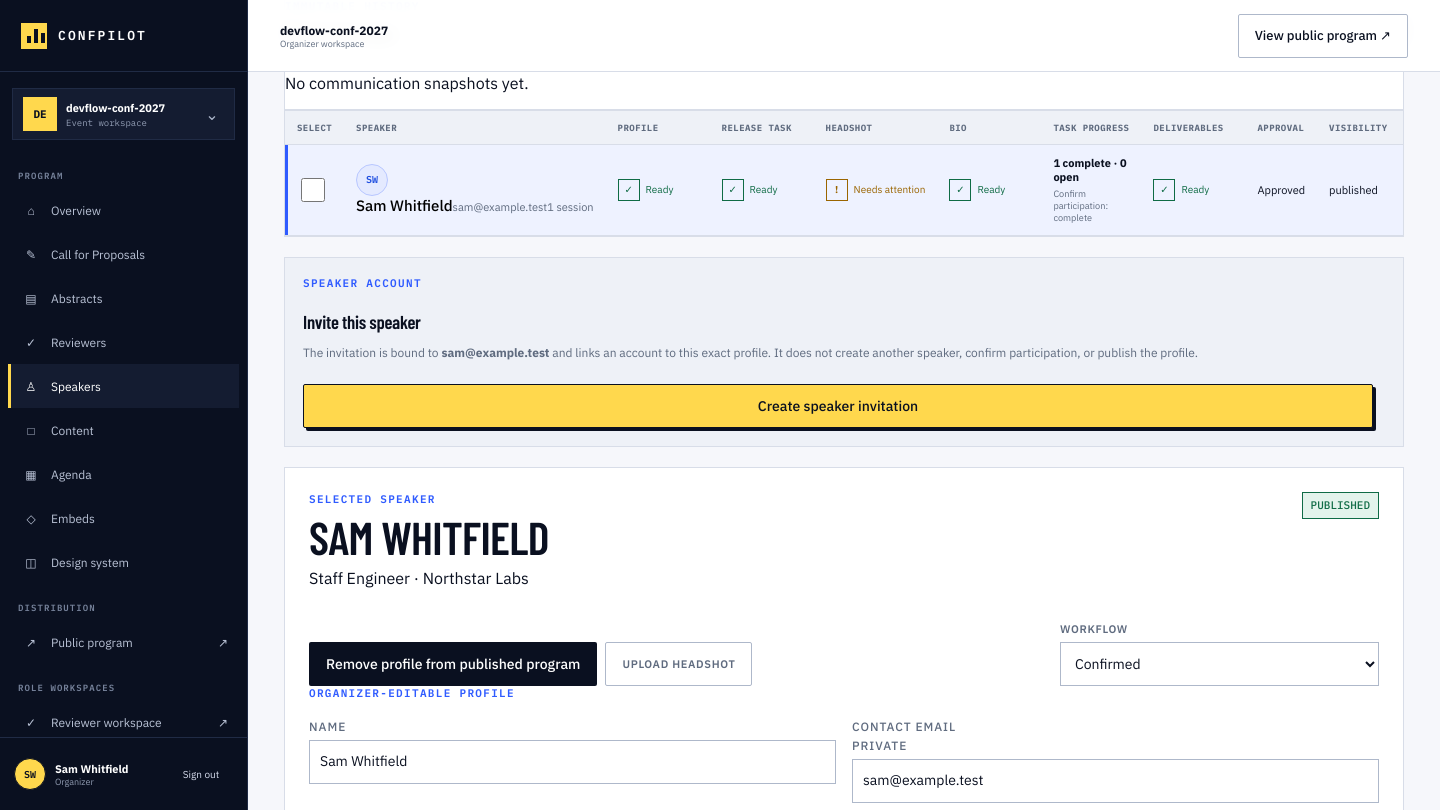
ConfPilot Phase 0 shell › creates an exact-record speaker invitation and labels queued delivery truthfully
The width and height of the screenshot is (1440, 810).
(page scrolled)
Expected: the heading "Invite this speaker" is shown, [303,310,421,333]
Expected: the text "links an account to this exact profile" is shown, [550,345,1198,360]
Click the button "Create speaker invitation" at (838, 406), box [303,384,1373,428]
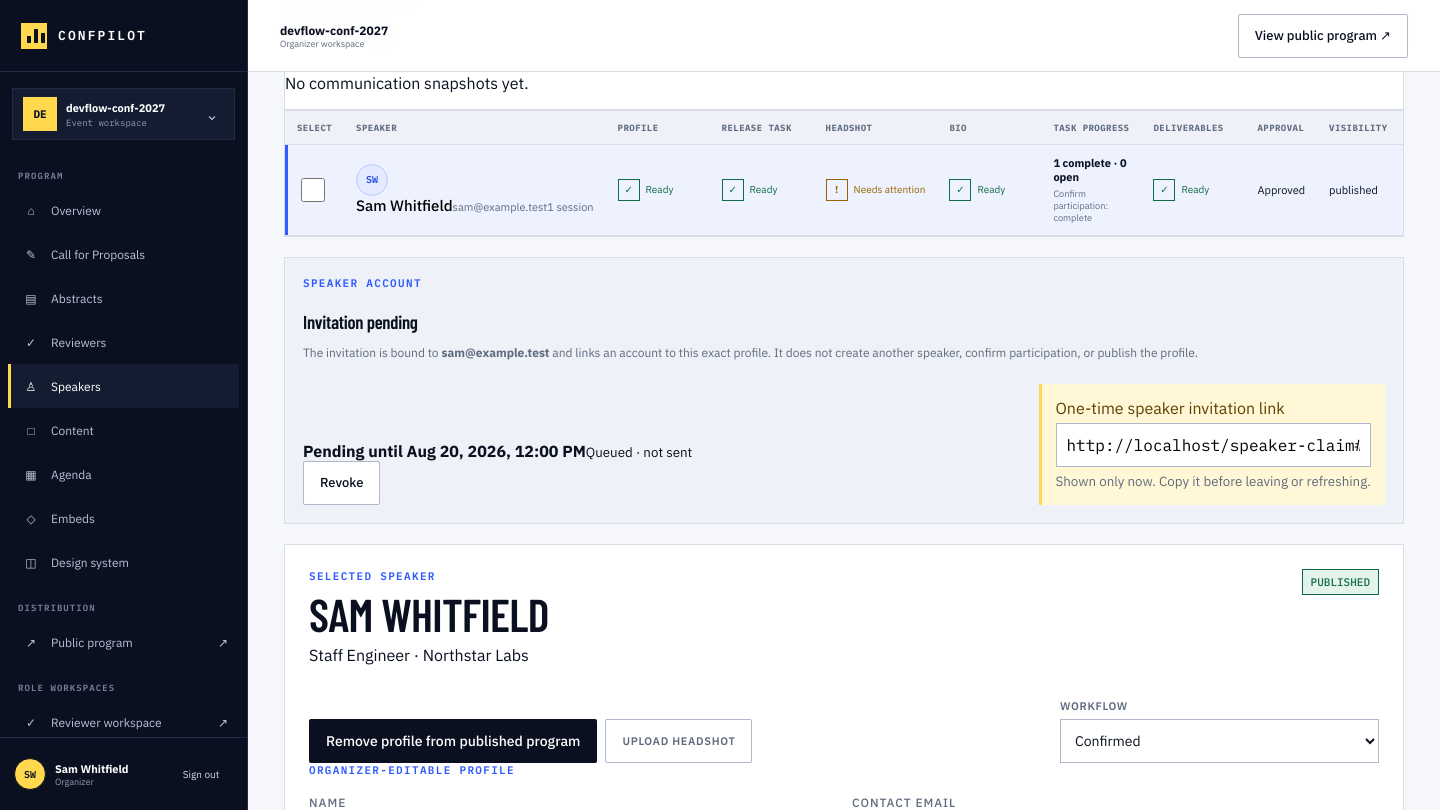
Expected: the text "does not create another speaker, confirm participation, or publish" is shown, [550,345,1198,360]
Expected: the text "Queued · not sent" is shown, [586,443,692,461]
